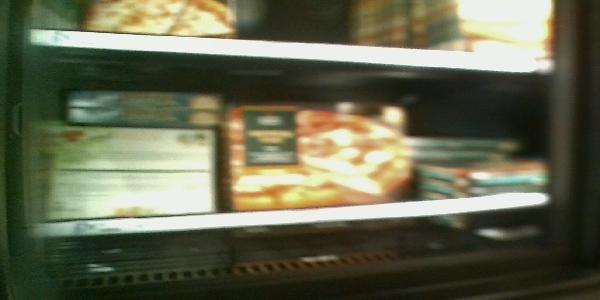pizza: (223, 104, 414, 204)
pizza1: (23, 167, 222, 232), (28, 123, 221, 177), (66, 89, 223, 111), (64, 106, 223, 124), (424, 187, 552, 205), (423, 168, 547, 185), (405, 137, 526, 154), (404, 153, 527, 166)
